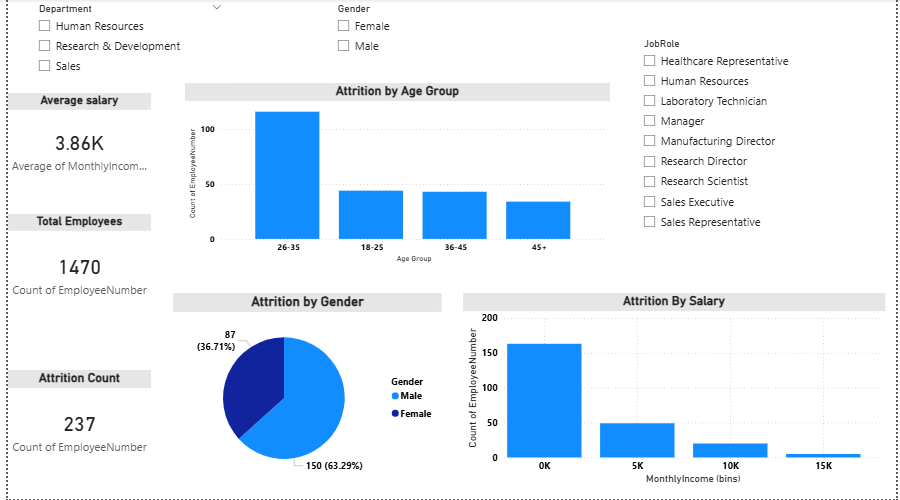

The page's visual inventory and layout, read from the dashboard file:
{"tool":"powerbi","page":{"name":"Hr Attrition Dashboard","canvas":[1280,720],"ordinal":0},"visuals":[{"type":"pieChart","title":"Attrition by Gender","fields":{"Category":["HR_Project_Power BI.Gender"],"Y":["CountNonNull(HR_Project_Power BI.EmployeeNumber)"]},"box":[237.6,423.4,387.4,280.8],"z":1000},{"type":"clusteredColumnChart","title":"Attrition by Age Group","fields":{"Category":["HR_Project_Power BI.Age Group"],"Y":["CountNonNull(HR_Project_Power BI.EmployeeNumber)"]},"box":[254.9,121,612,263.5],"z":2000},{"type":"clusteredColumnChart","title":"Attrition By Salary","fields":{"Y":["CountNonNull(HR_Project_Power BI.EmployeeNumber)"],"Category":["HR_Project_Power BI.MonthlyIncome (bins)"]},"box":[655.2,423.4,607.7,280.8],"z":4000},{"type":"slicer","fields":{"Values":["HR_Project_Power BI.Department"]},"box":[31.7,0,288,121],"z":5000},{"type":"slicer","fields":{"Values":["HR_Project_Power BI.Gender"]},"box":[462.2,0,275,121],"z":6000},{"type":"slicer","fields":{"Values":["HR_Project_Power BI.JobRole"]},"box":[902.9,50.4,295.2,309.6],"z":7000},{"type":"card","title":"Average salary ","fields":{"Values":["Avg(HR_Project_Power BI.MonthlyIncome (bins))"]},"box":[0,135.4,205.9,142.6],"z":7001},{"type":"card","title":"Total Employees","fields":{"Values":["Count(HR_Project_Power BI.EmployeeNumber)"]},"box":[0,309.6,205.9,149.8],"z":7002},{"type":"card","title":"Attrition Count","fields":{"Values":["Count(HR_Project_Power BI.EmployeeNumber)"]},"box":[0,534.2,205.9,152.6],"z":7003}]}

Visuals, with their boxes in screenshot pixels (x1, y1, x2, y2), scaled from the page's 1280x720 canvas onto the 900x500 screenshot:
"Attrition by Gender" pieChart: <box>167,294,439,489</box>
"Attrition by Age Group" clusteredColumnChart: <box>179,84,610,267</box>
"Attrition By Salary" clusteredColumnChart: <box>461,294,888,489</box>
slicer - HR_Project_Power BI.Department: <box>22,0,225,84</box>
slicer - HR_Project_Power BI.Gender: <box>325,0,518,84</box>
slicer - HR_Project_Power BI.JobRole: <box>635,35,842,250</box>
"Average salary " card: <box>0,94,145,193</box>
"Total Employees" card: <box>0,215,145,319</box>
"Attrition Count" card: <box>0,371,145,477</box>
